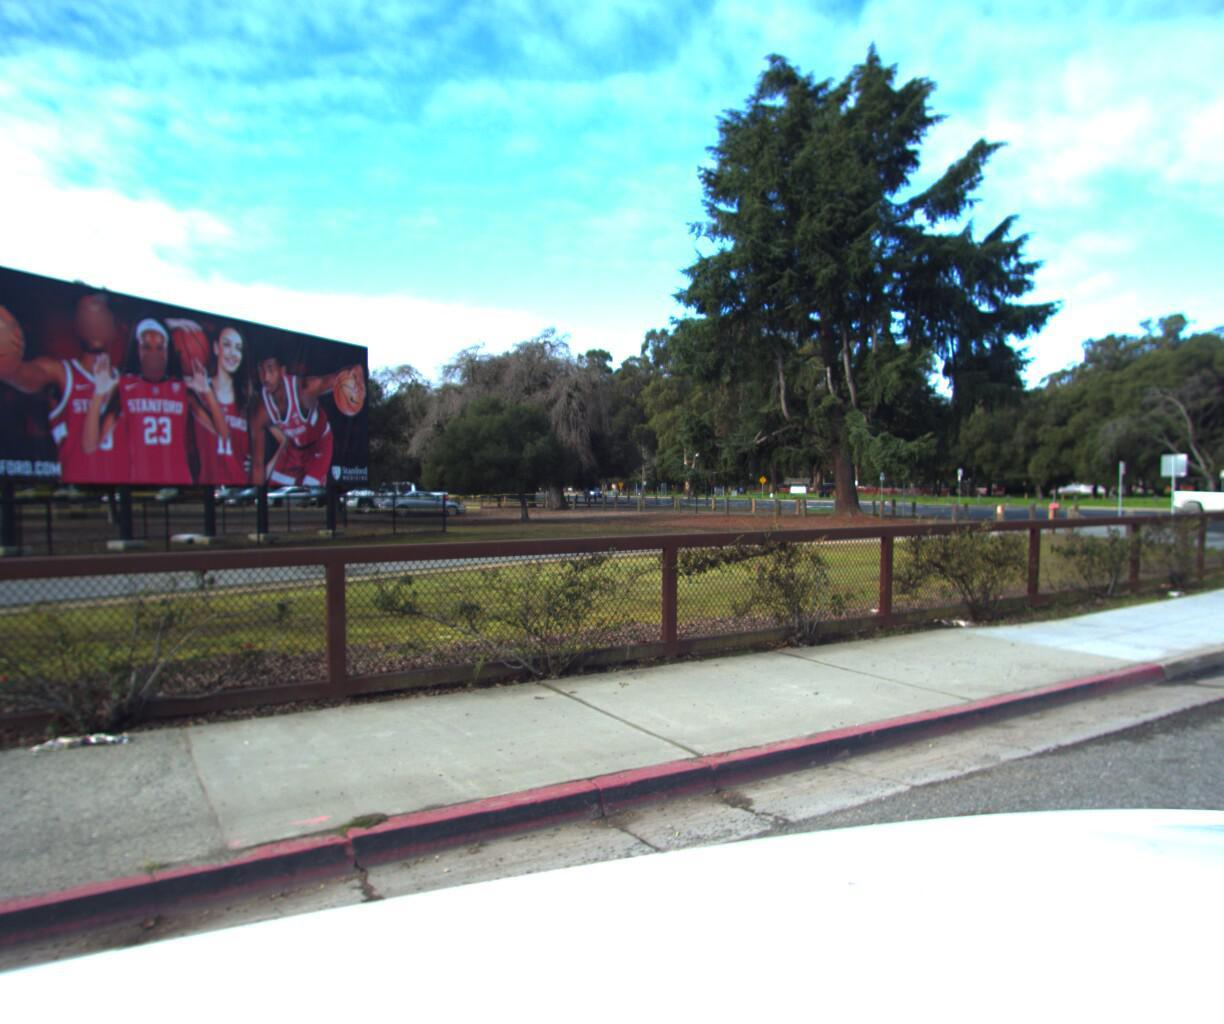car: (1164, 463, 1224, 515)
